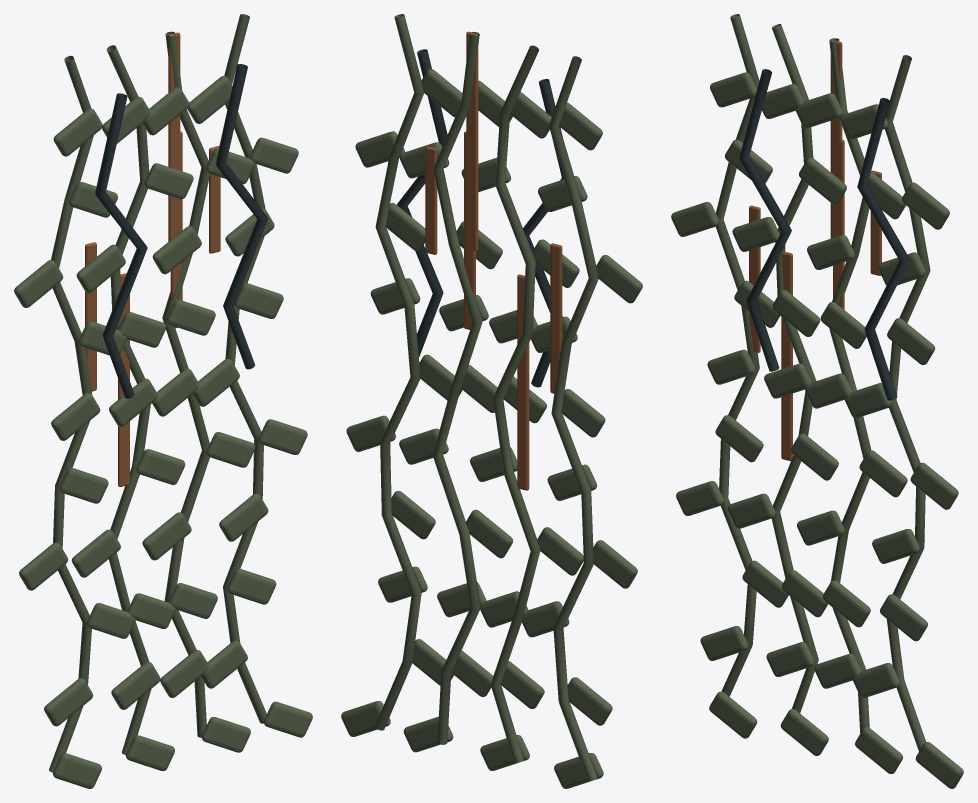
Rendered from SM_CityDecay.fbx.
3 renders of one model, left to right at view 1: azimuth 30°, elevation 25°; view 2: azimuth 150°, elevation 25°; view 3: azimuth 330°, elevation 25°, orthographic. The views are drawn at different scales.
Parts seen in each view (by area): view 1: SM_CityDecay; view 2: SM_CityDecay; view 3: SM_CityDecay.
Boxes of the visible parts, x1,y1,x2,y2 form: SM_CityDecay: [14, 14, 312, 788]; SM_CityDecay: [341, 14, 642, 788]; SM_CityDecay: [671, 14, 963, 788].
Bounding box in the file's own units: 119 × 11.2 × 279.
